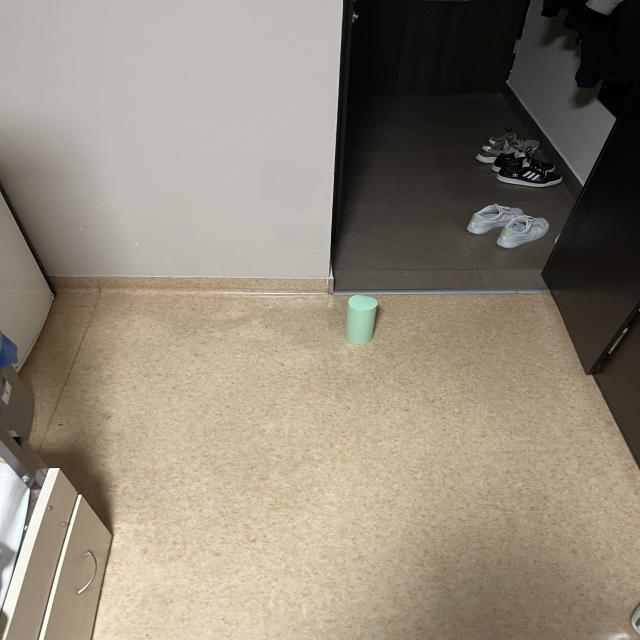meta: (346, 295, 378, 344)
